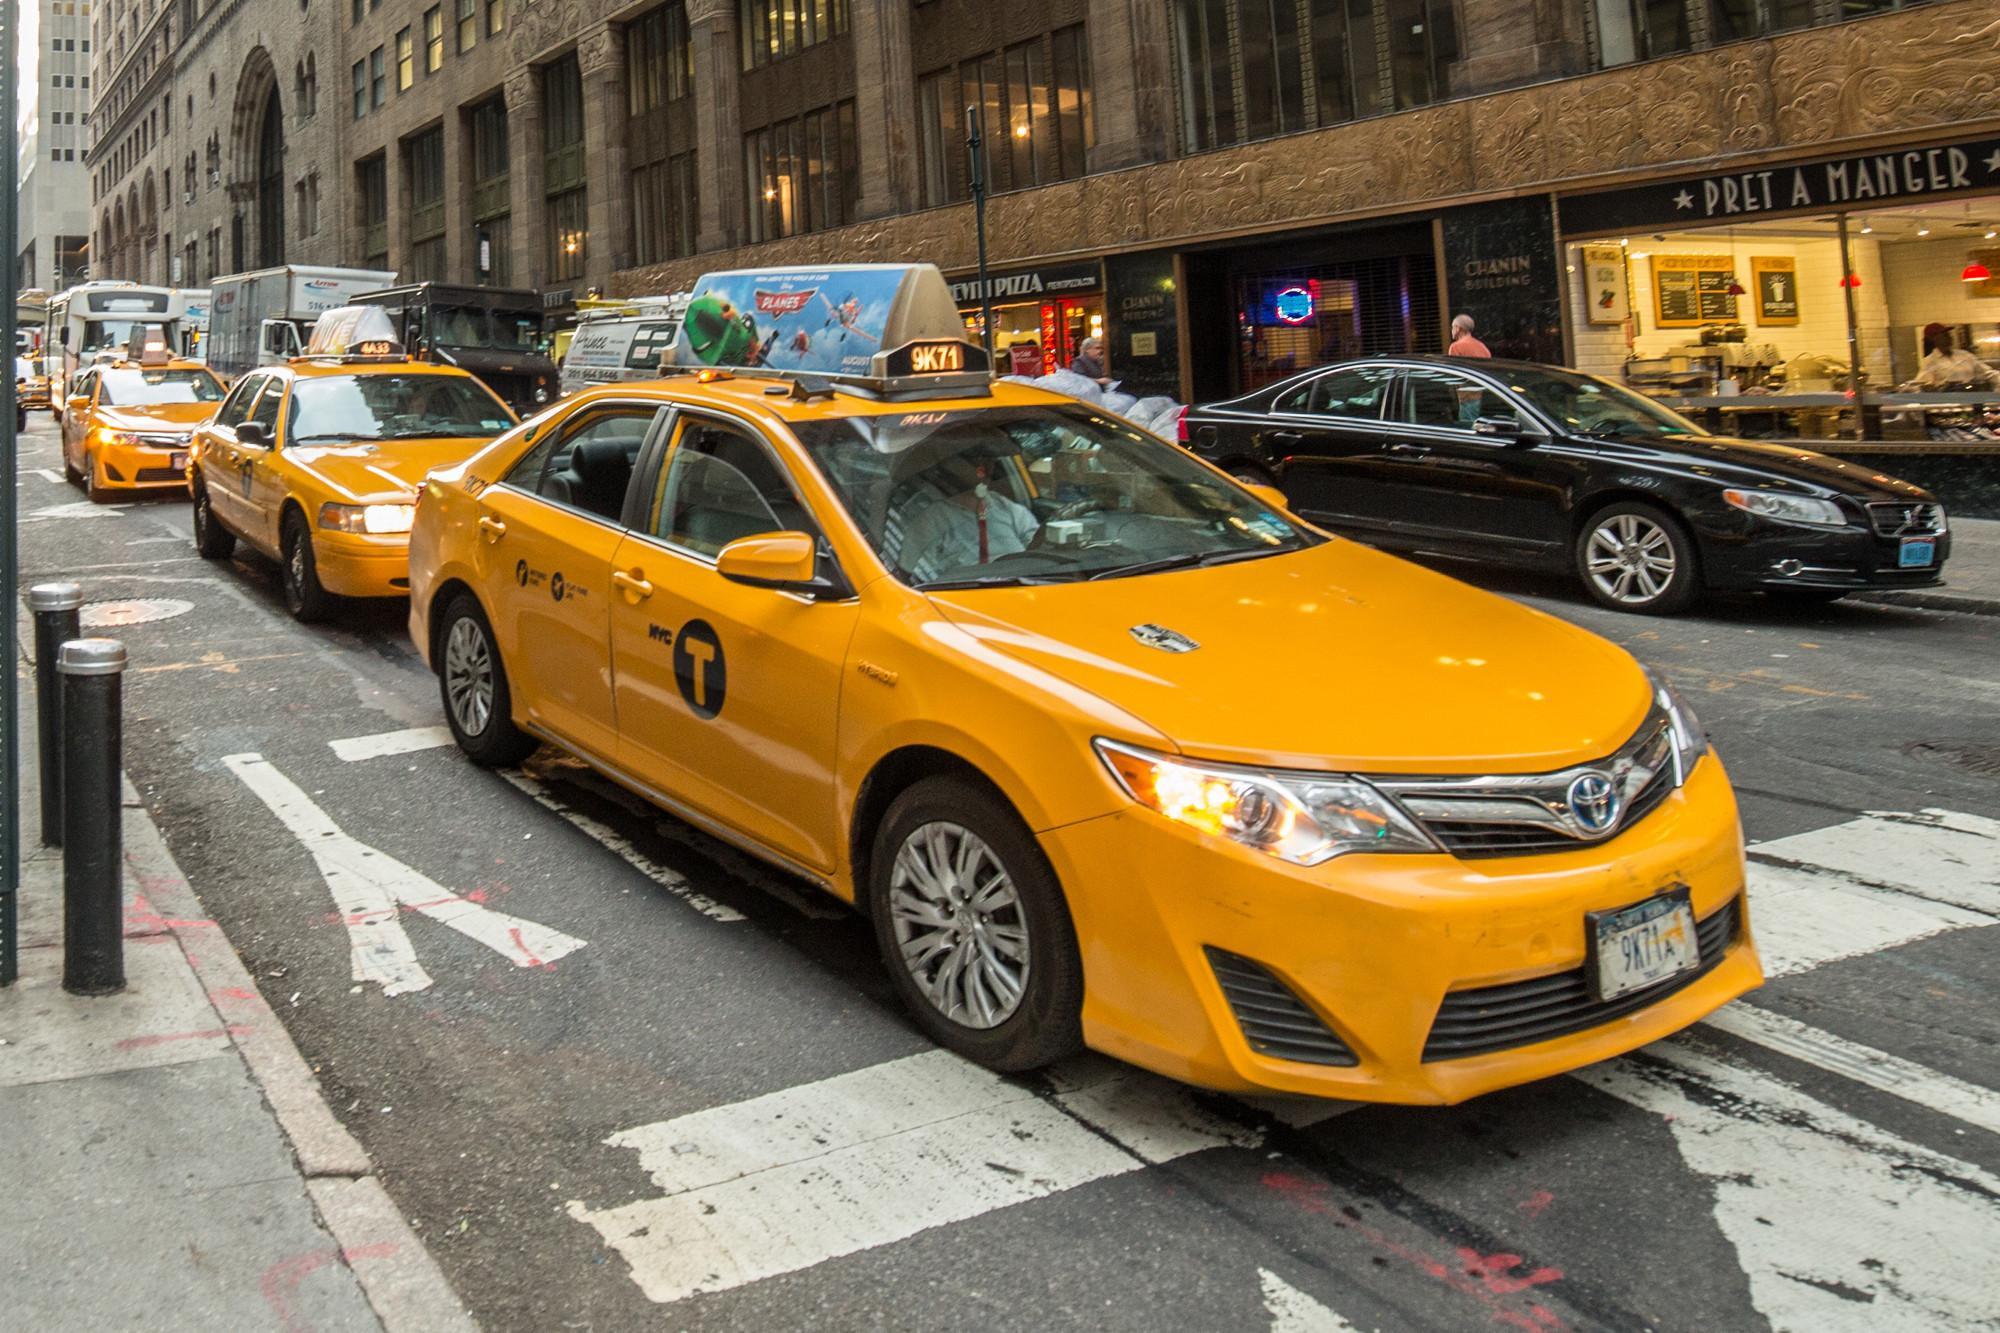taxi: (381, 309, 1767, 1233)
